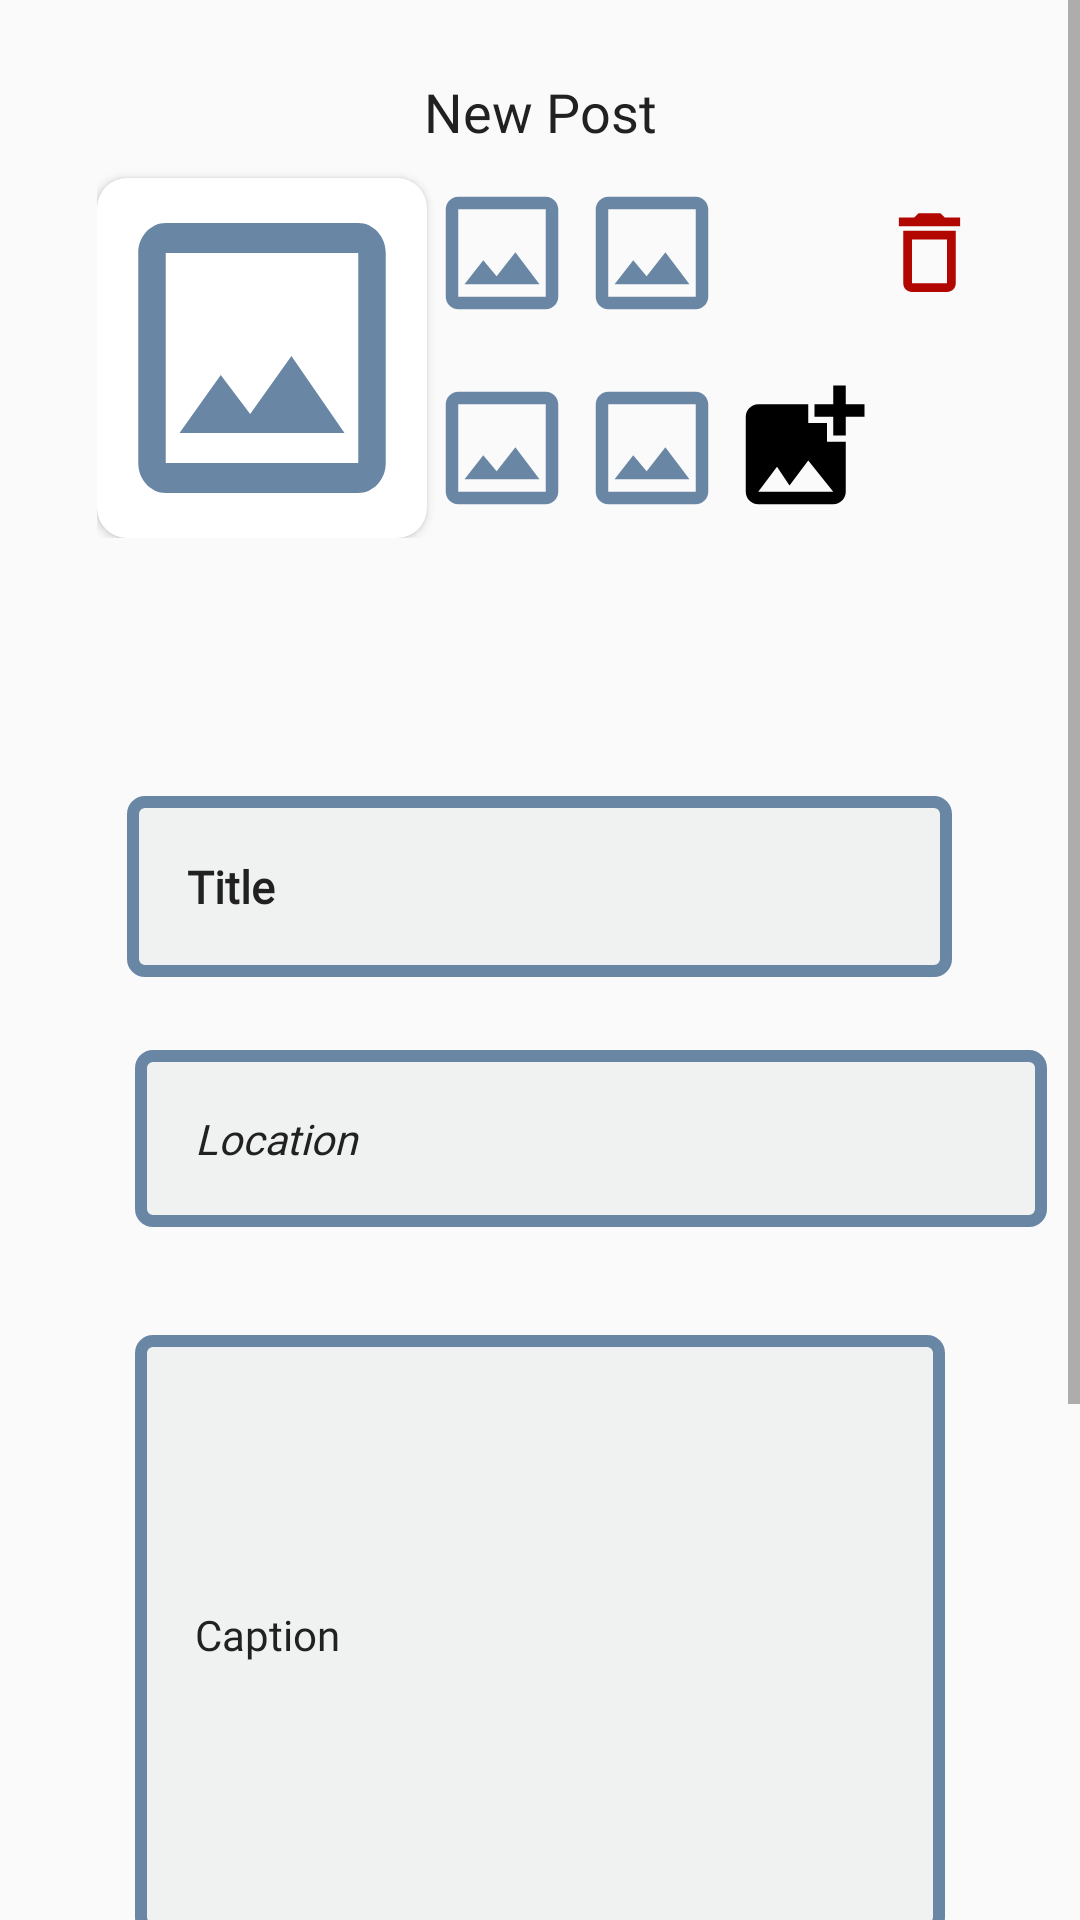

Point at icon controls on the screen. Image size 1080px x 1920px, points as (x,y).
delete: (929,252)
photoaddd: (805,445)
